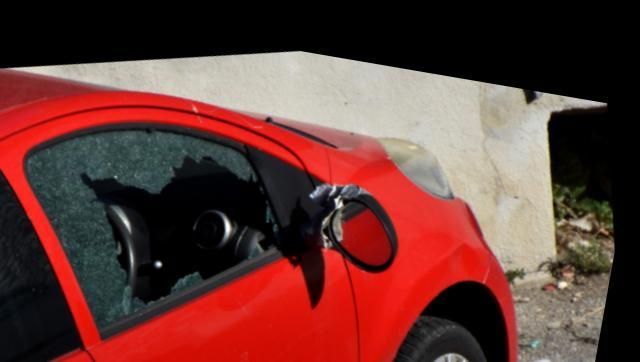glass shatter: (32, 123, 289, 323)
